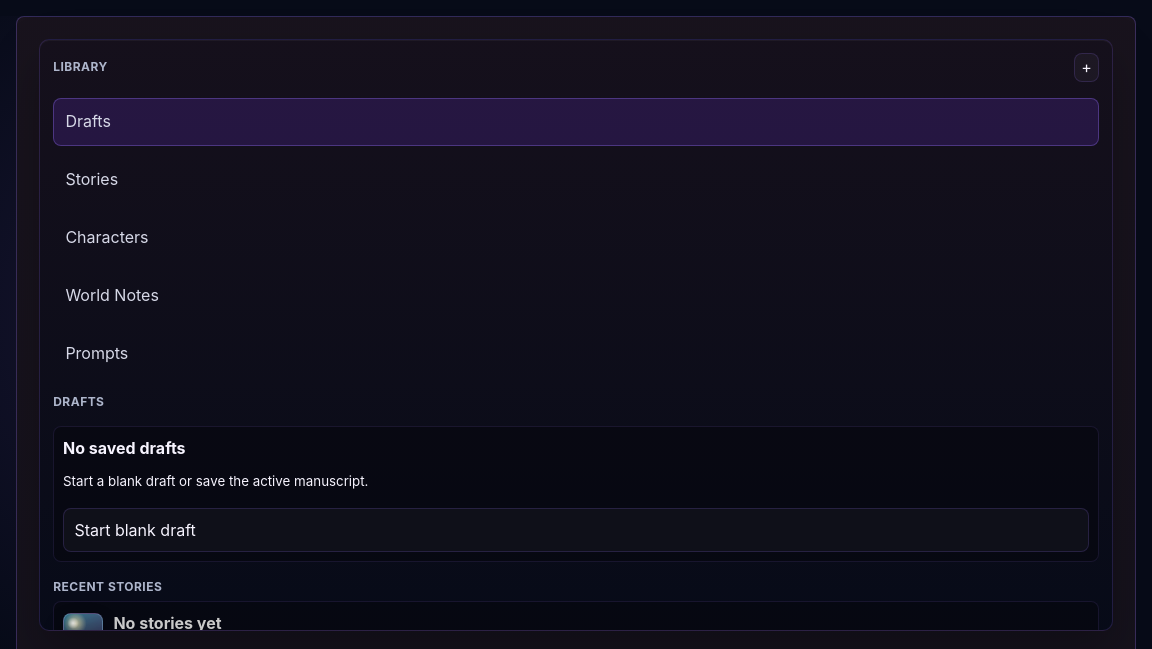
Test case: StorytellerWorkspace › switches Story library sections and starts a new draft from the sidebar
What coordinates should you click on to do the following:
click the button "Characters"
I would click on:
 (107, 237)
Its box is [53,214,1099,262].
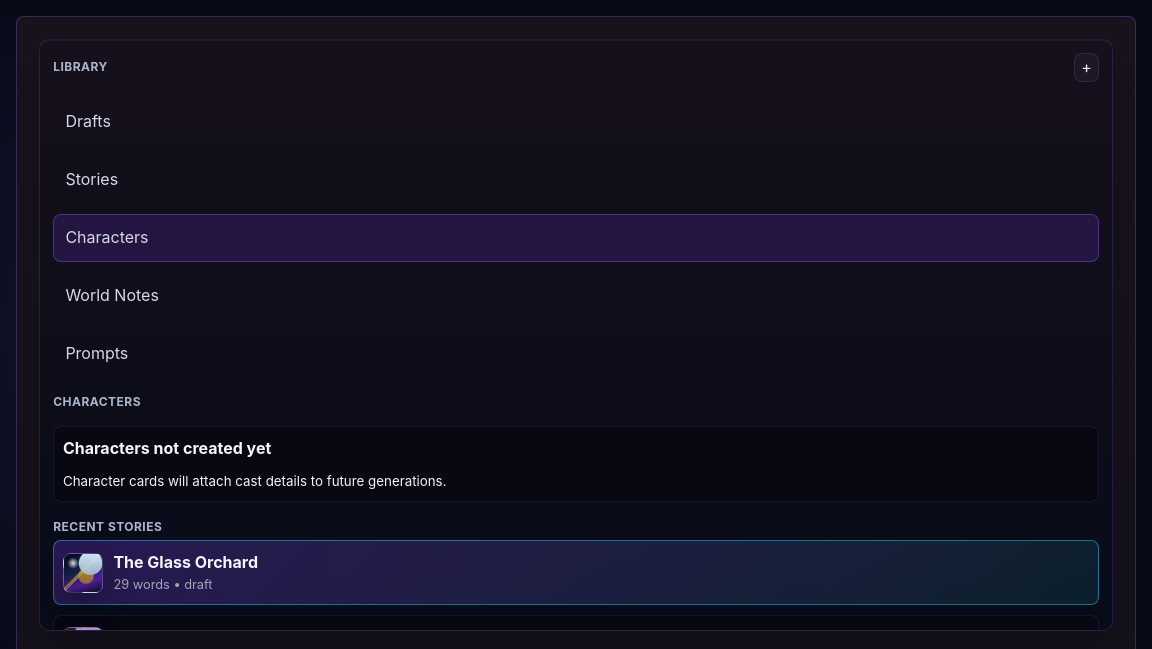
Result: the text "Characters not created yet" is shown at [63,438,271,458]
What coordinates should you click on to do the following:
click the button "World Notes"
I would click on:
 (112, 295)
Its box is [53,272,1099,320].
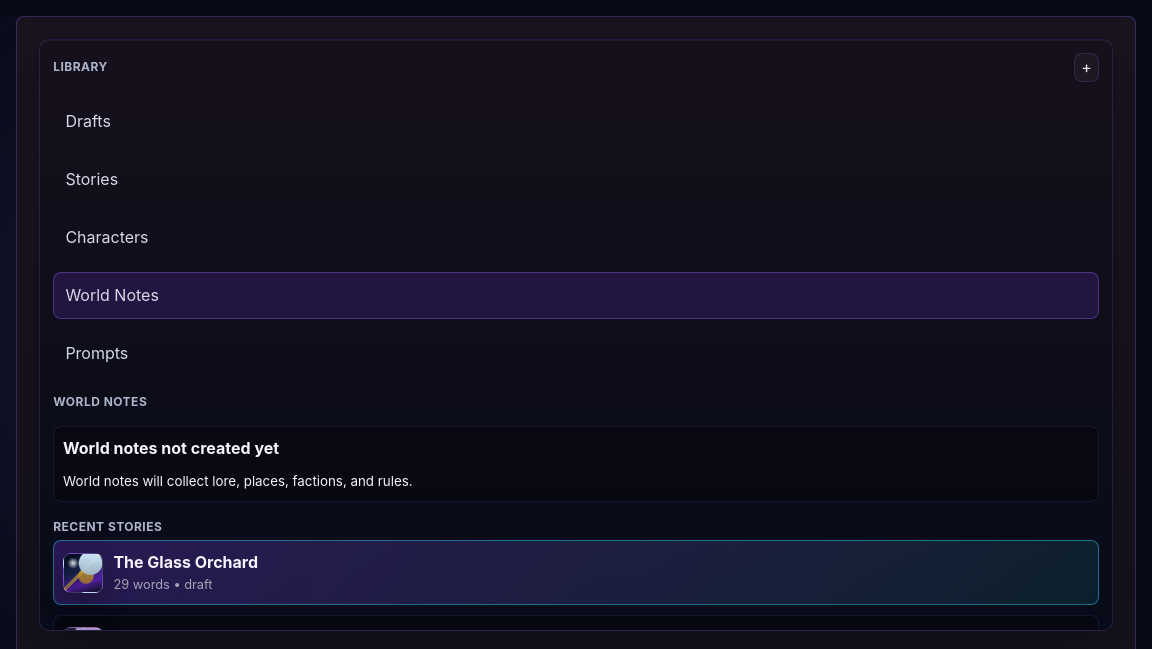
Result: the text "World notes not created yet" is shown at [63,438,279,458]
What coordinates should you click on to do the following:
click the button named "New story draft"
I would click on:
 (1086, 68)
Its box is [1074,53,1099,82].
(page scrolled)
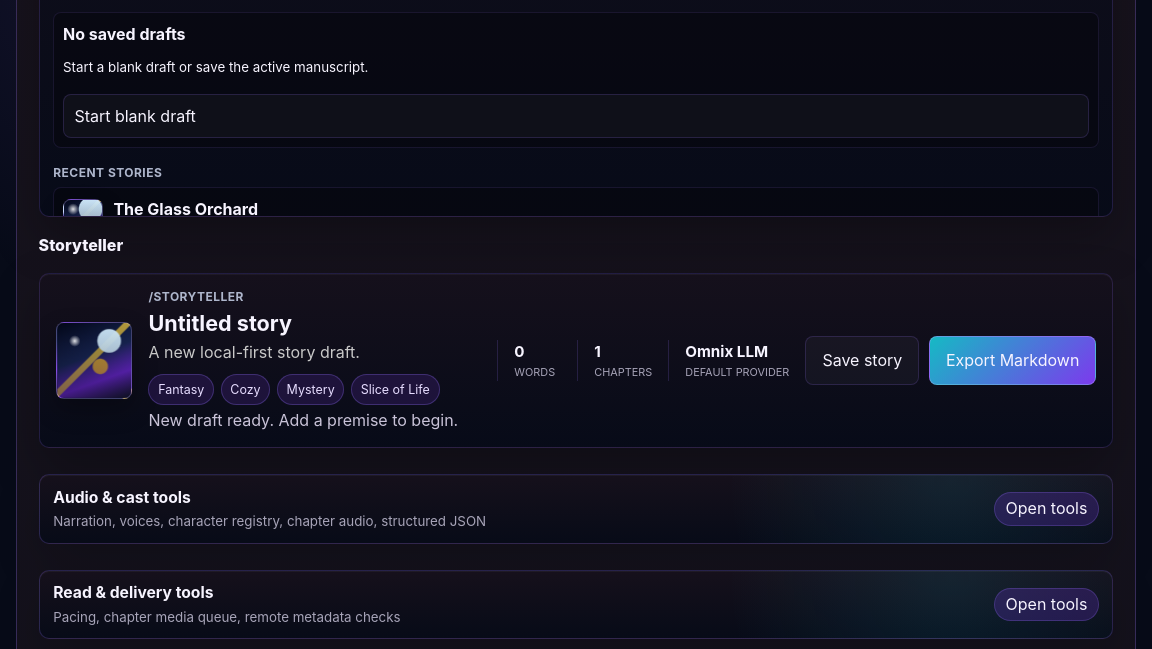
Result: the text "New draft ready. Add a premise to begin." is shown at [148,408,481,433]
Result: the button "Save story" is disabled at [805,336,919,385]
